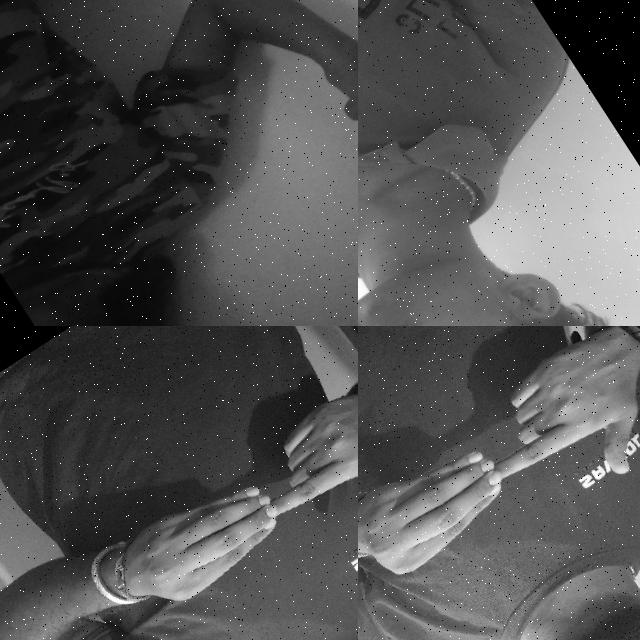Dulya: (277, 0, 358, 168)
Fist Mouth: (358, 136, 639, 326)
Five Fathers: (358, 326, 640, 625), (83, 358, 358, 640)
